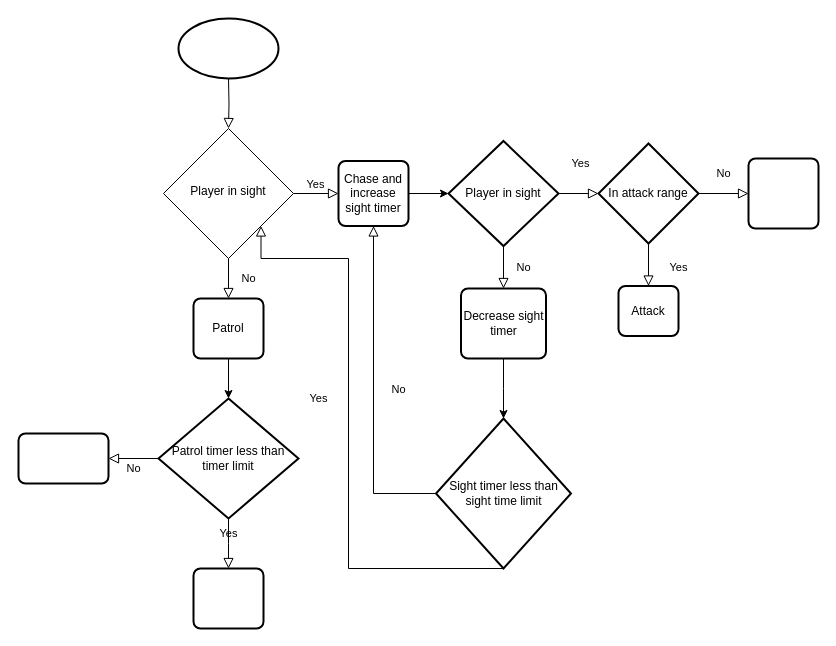
Some shapes in this 836 by 646 pixel diagram are drawn without their labels. Here are the shapes that lost their labels. From the top down, the centre of each, then its label:
At [228,48]: "bearCount != 3".
At [783,193]: "Increase sight timer".
At [63,458]: "Set walkpoint to player position".
At [228,598]: "Search walk point".
